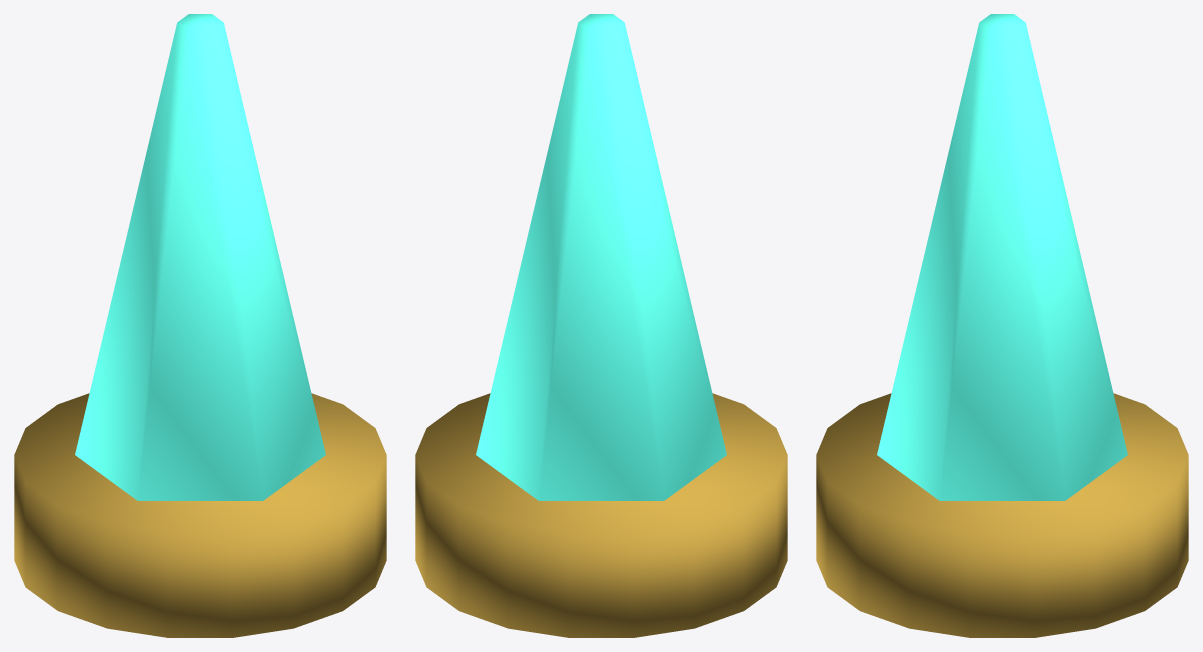
File: Decor_ProgressAward.fbx
The picture shows the model from 3 angles, left to right: view 1: azimuth 30°, elevation 25°; view 2: azimuth 150°, elevation 25°; view 3: azimuth 270°, elevation 25°; orthographic projection.
Visible parts, largest first — view 1: Award_Crystal, Award_Plinth; view 2: Award_Crystal, Award_Plinth; view 3: Award_Crystal, Award_Plinth.
Boxes of the visible parts, bbox=[...] form: Award_Crystal: bbox=[75, 14, 325, 500]; Award_Plinth: bbox=[14, 393, 386, 637]; Award_Crystal: bbox=[476, 14, 726, 500]; Award_Plinth: bbox=[415, 393, 787, 637]; Award_Crystal: bbox=[877, 14, 1127, 500]; Award_Plinth: bbox=[816, 393, 1188, 637].
Size of the model in its own units: 3.15 by 5.1 by 3.2.
